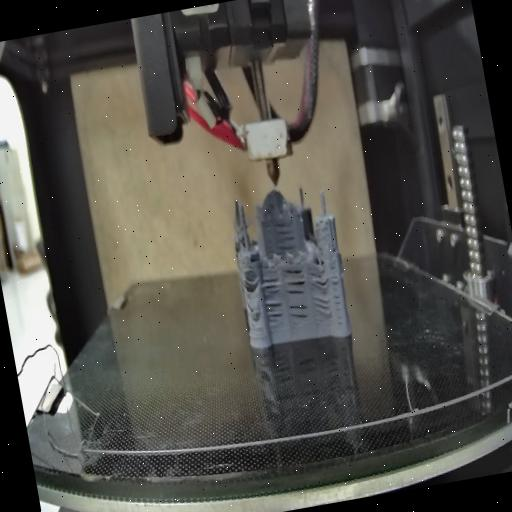cracks: (260, 276, 286, 328), (328, 264, 346, 328), (268, 216, 296, 252), (282, 260, 308, 298), (307, 265, 329, 293), (288, 300, 311, 326), (313, 294, 333, 322), (246, 296, 264, 324), (241, 273, 255, 294), (328, 240, 336, 258)
